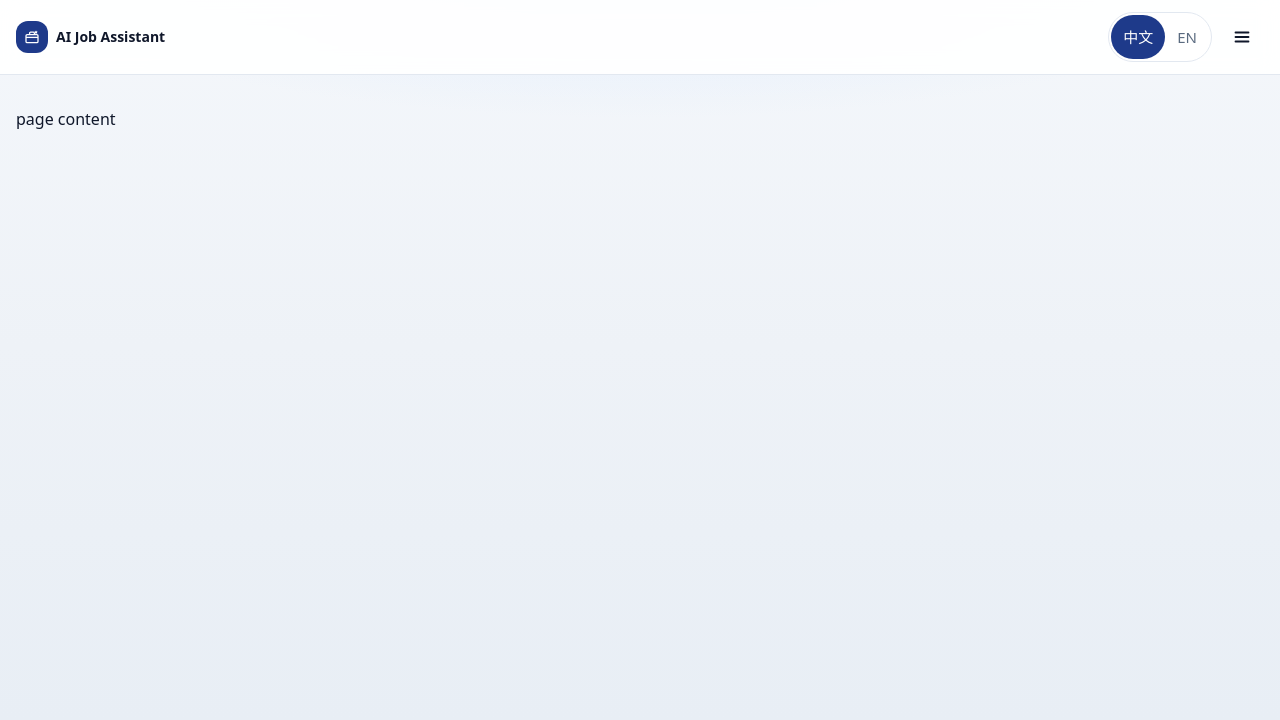
AppLayout › signed-in compact menu shows Dashboard instead of Home
The image size is (1280, 720).
Step 1. Click the button named "打开菜单" → (1242,37), box [1220,15,1264,59]
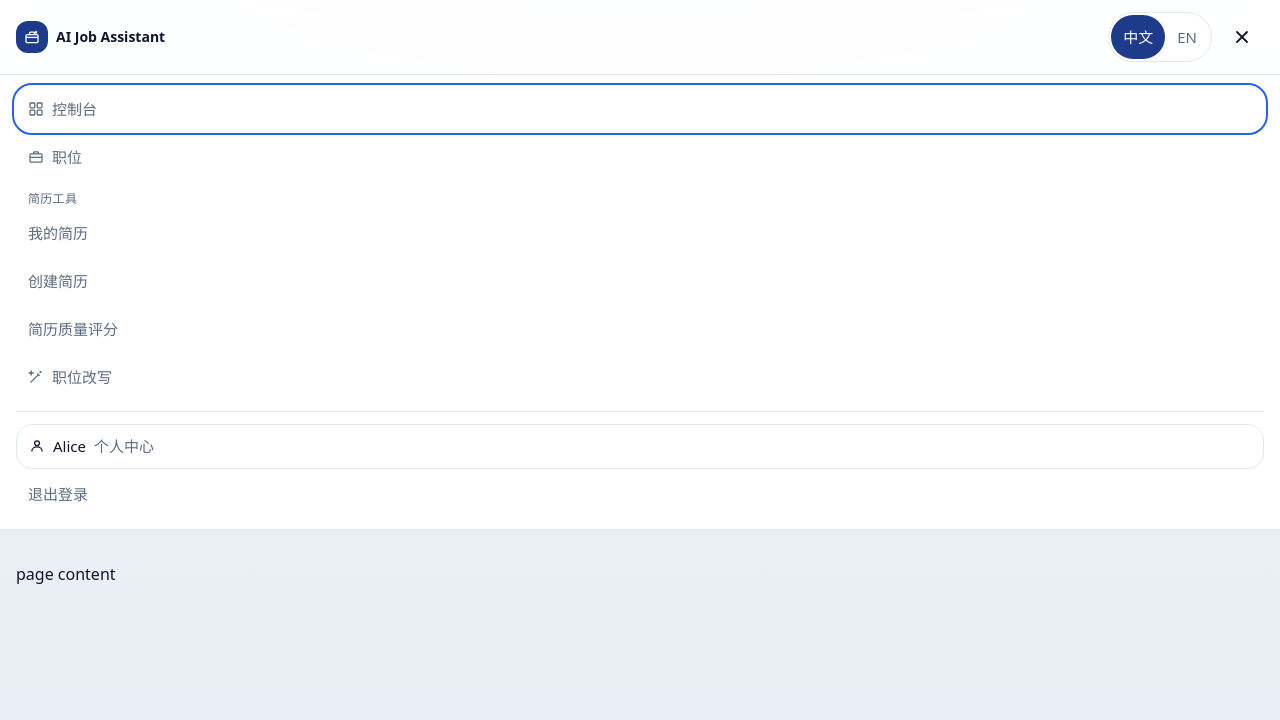
Expected: the button "退出登录" is shown, [16,472,1264,516]
